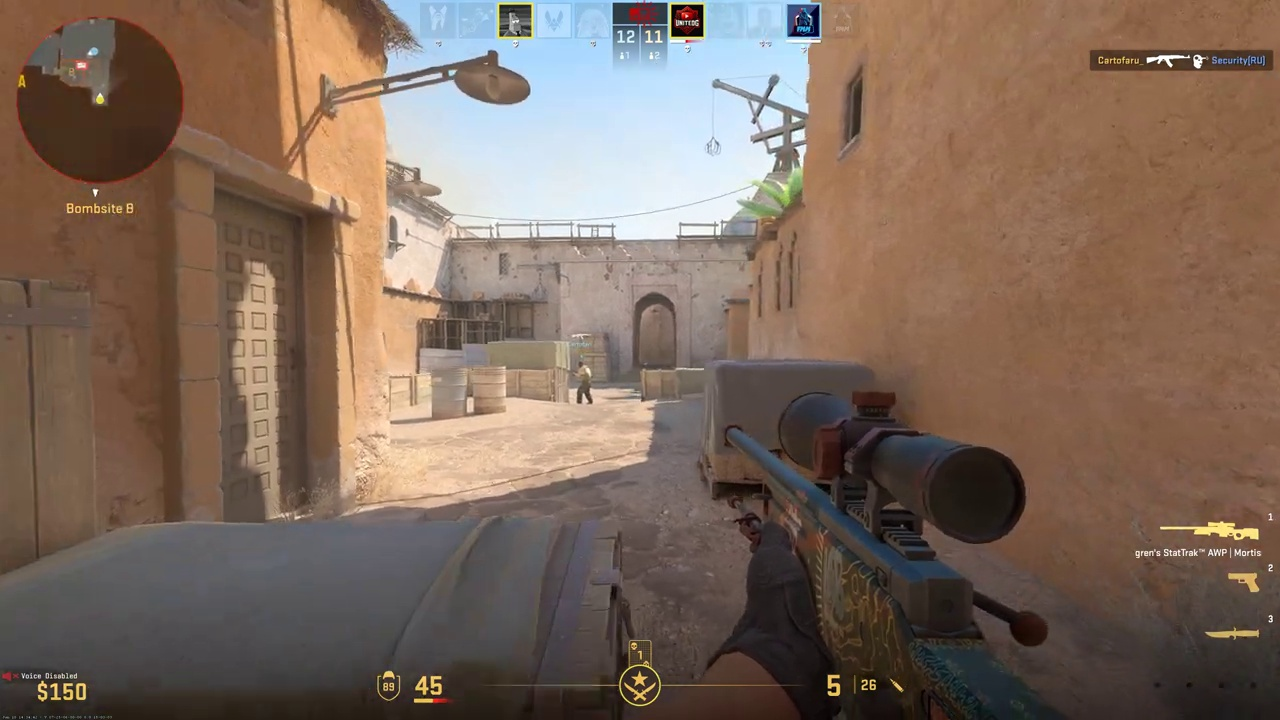Terrorist: (575, 361, 593, 404)
